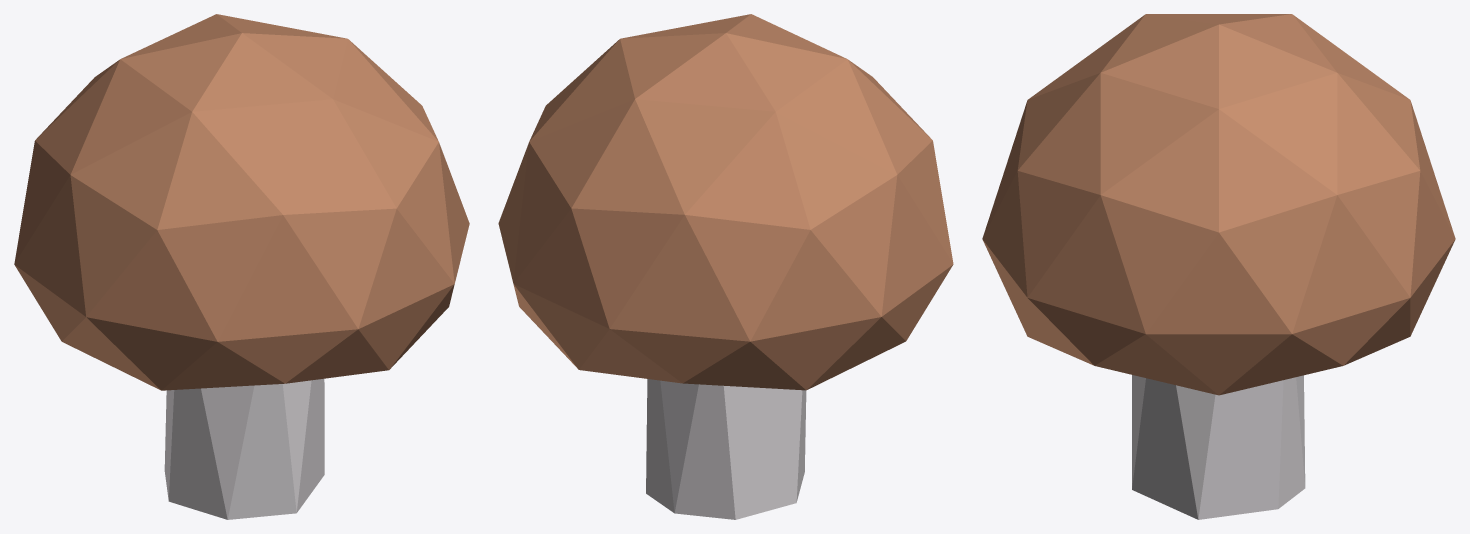
Rendered from mushroom_1.fbx.
The picture shows the model from 3 angles, left to right: view 1: azimuth 30°, elevation 25°; view 2: azimuth 150°, elevation 25°; view 3: azimuth 270°, elevation 25°; orthographic projection.
Parts seen in each view (by area): view 1: Icosphere, Cylinder; view 2: Icosphere, Cylinder; view 3: Icosphere, Cylinder.
Part boxes in pixels (x1,y1,x2,y2): Icosphere: (14, 14, 469, 390); Cylinder: (164, 378, 324, 519); Icosphere: (498, 14, 953, 390); Cylinder: (646, 379, 806, 519); Icosphere: (982, 14, 1455, 395); Cylinder: (1132, 375, 1305, 519).
Size of the model in its own units: 408 by 459 by 428.
